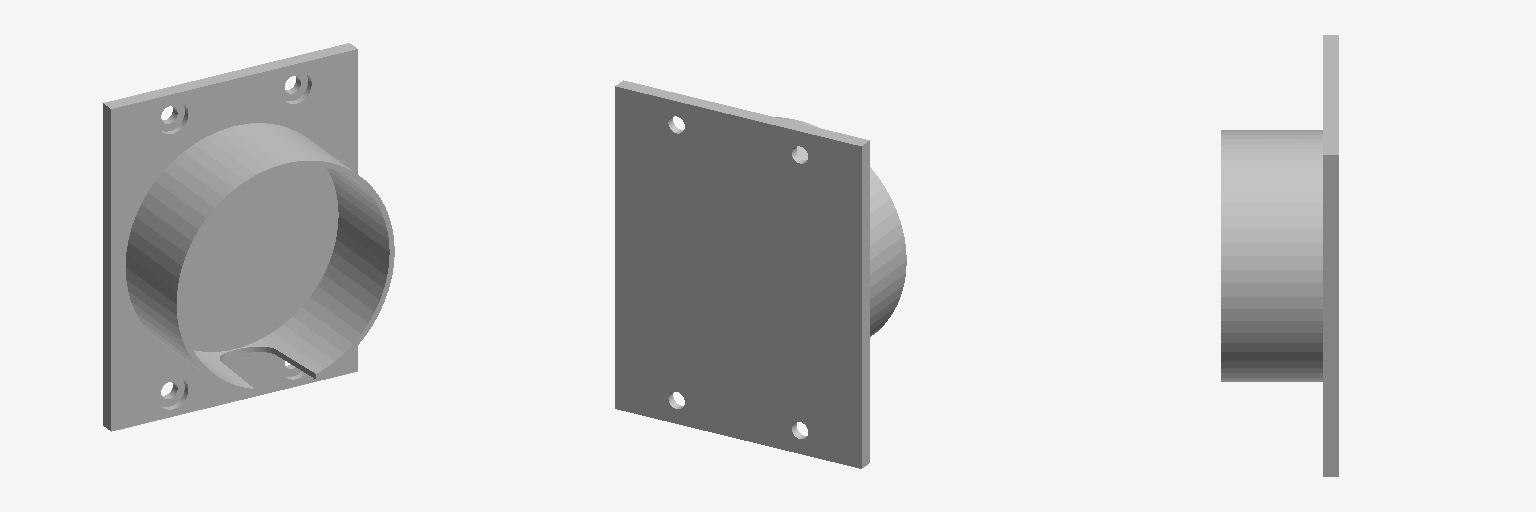
The model's file is cupholder_v2.obj.
The picture shows the model from 3 angles: view 1: azimuth 30°, elevation 25°; view 2: azimuth 150°, elevation 25°; view 3: azimuth 270°, elevation 25°; orthographic projection.
Bounding box in the file's own units: 0.12 × 0.15 × 0.05.